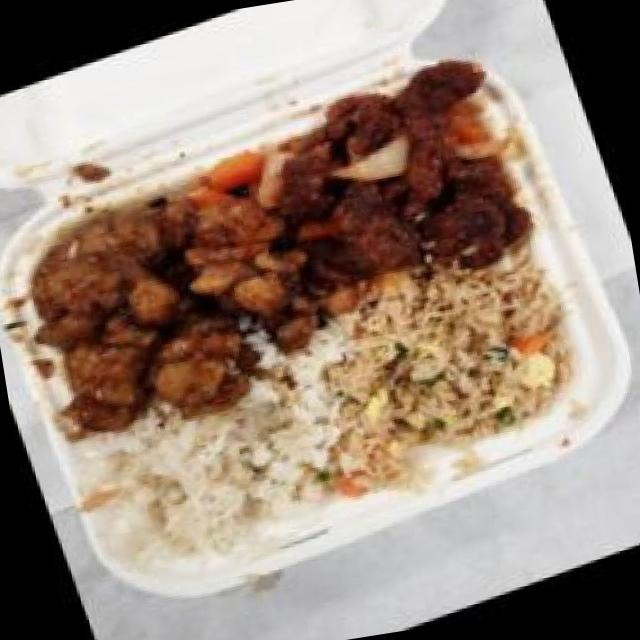Beijing Beef: (252, 36, 562, 324)
Fried Rice: (267, 239, 608, 508)
The Original Orange Chicken: (0, 121, 367, 465)
White Steamed Rice: (60, 369, 328, 604)
